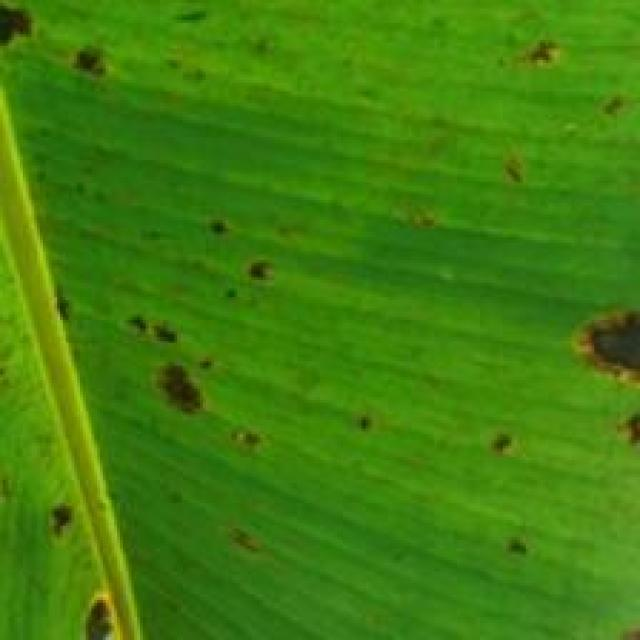Downey_mildrew: (113, 295, 293, 469), (540, 274, 640, 496), (25, 507, 155, 640), (185, 214, 296, 292), (63, 36, 137, 110), (210, 508, 280, 572), (46, 270, 92, 336), (348, 403, 398, 454), (2, 2, 36, 68), (501, 150, 540, 203), (488, 417, 526, 469), (594, 95, 639, 137), (501, 534, 543, 576), (529, 39, 561, 71)
